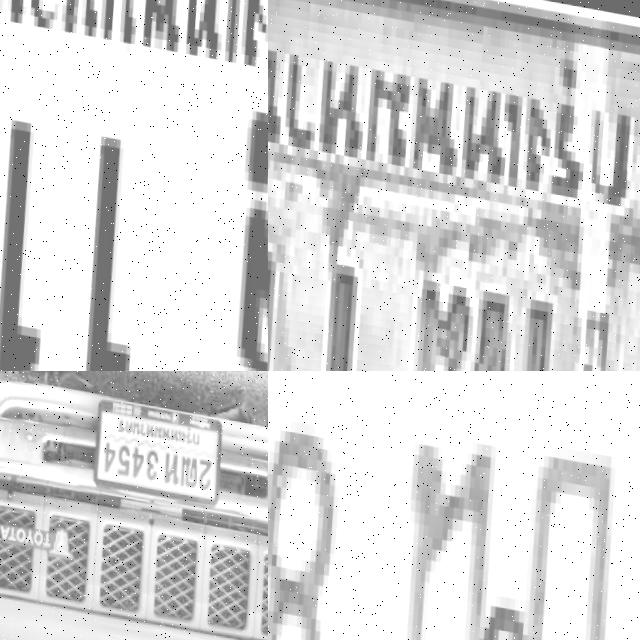license-plate: (268, 0, 640, 371), (268, 371, 640, 640), (0, 0, 268, 371), (87, 385, 225, 507)
